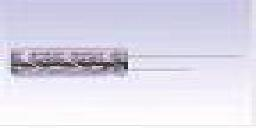Electrolytic-Capacitor: (7, 44, 254, 82)
